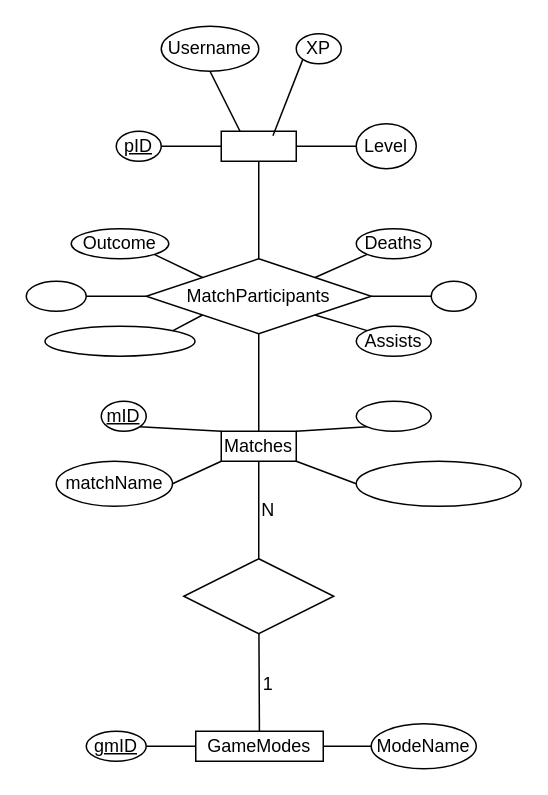
Image size: 548x795. Some labels were removed from this diagram. Each missing label, with the centre of its shape:
Kills: [453,295]
MatchModes: [258,595]
mpTimestamp: [119,340]
NumericAttribute: [438,483]
Players: [258,145]
Score: [55,295]
Status: [393,415]
